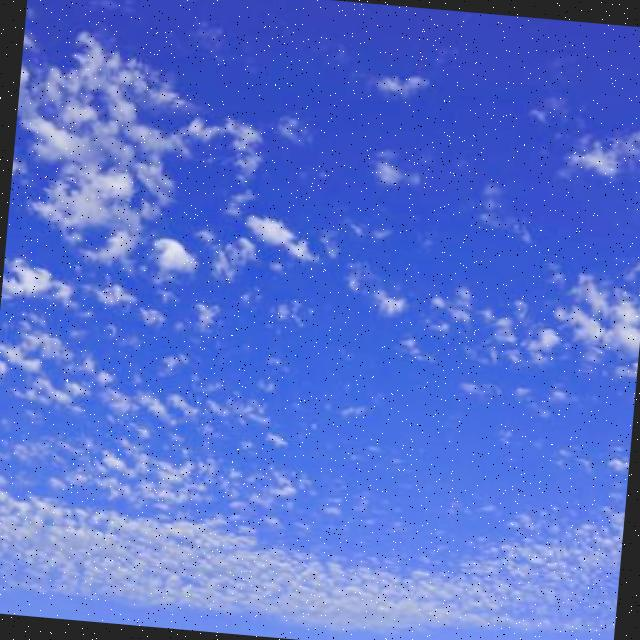Ac: (1, 26, 640, 640)
